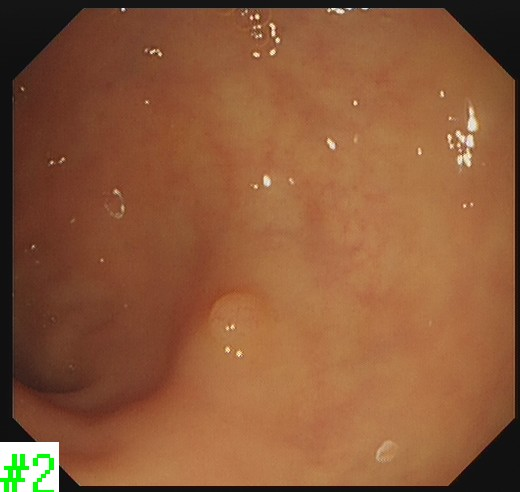adenoma: (203, 289, 270, 346)
